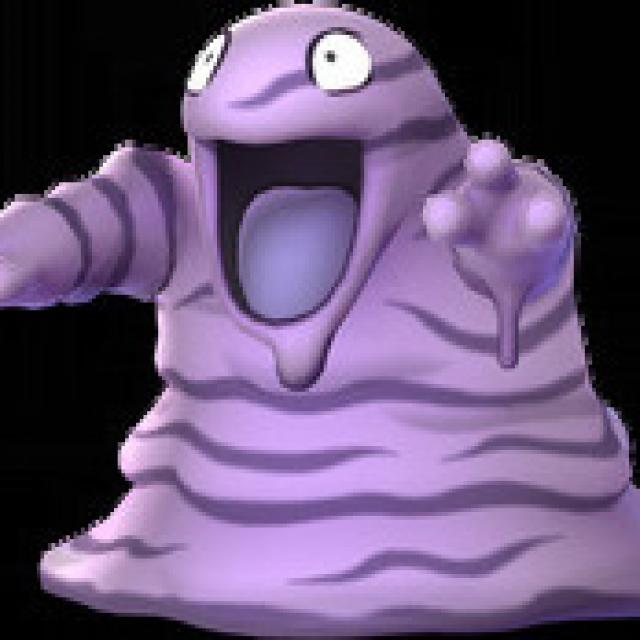Grimer: (119, 0, 577, 616)
